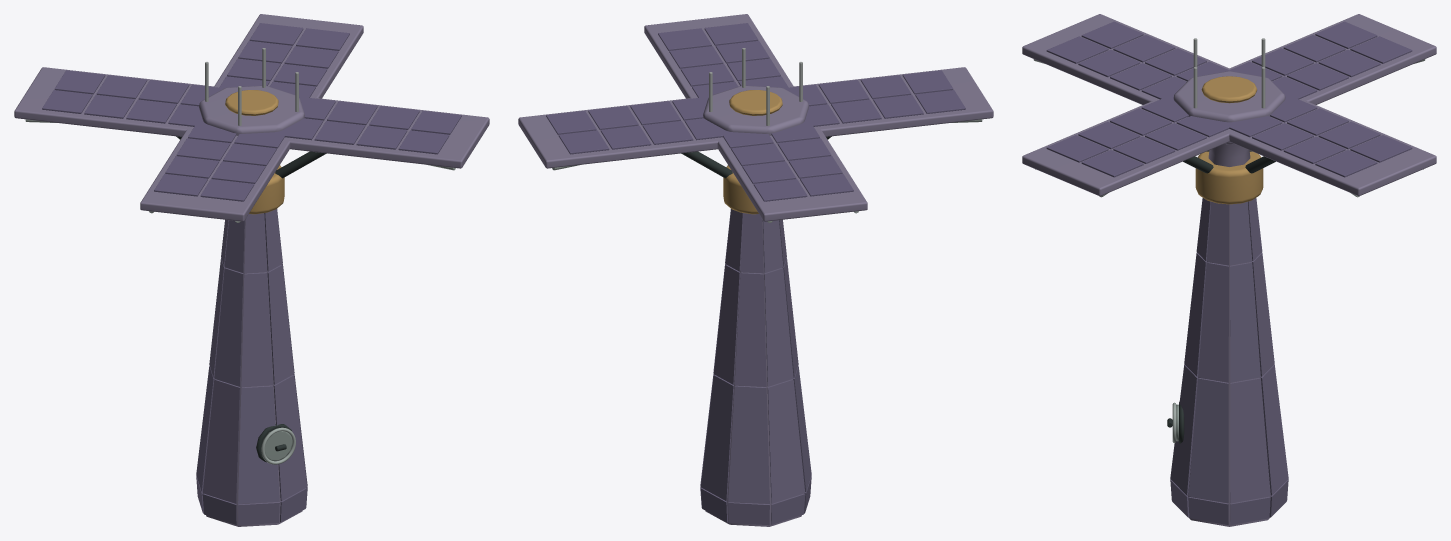
3 views of the same model, side by side, from view 1: azimuth 30°, elevation 25°; view 2: azimuth 150°, elevation 25°; view 3: azimuth 270°, elevation 25° (orthographic). The views are drawn at different scales.
Parts seen in each view (by area): view 1: Solar mast armoured panels, Solar collector petal.003, Solar collector petal.001, Solar collector petal.002, Solar tracking hub, Solar collector petal, Solar tapered mast, Solar hub gold cap, Solar collector cell.023, Solar collector cell.022, Solar collector cell.007, Solar collector cell.004 (+27 smaller); view 2: Solar mast armoured panels, Solar collector petal, Solar collector petal.002, Solar collector petal.001, Solar tracking hub, Solar collector petal.003, Solar tapered mast, Solar hub gold cap, Solar collector cell.014, Solar collector cell.015, Solar collector cell.030, Solar collector cell.007 (+26 smaller); view 3: Solar mast armoured panels, Solar collector petal, Solar collector petal.003, Solar collector petal.002, Solar collector petal.001, Solar tracking hub, Solar gold mast collar, Solar tapered mast, Solar hub gold cap, Solar collector cell.007, Solar collector cell.030, Solar collector cell.005 (+27 smaller).
Part boxes in pixels (left/top/right/bottom): Solar mast armoured panels: left=196, top=209, right=307, bottom=525; Solar collector petal.003: left=283, top=97, right=489, bottom=168; Solar collector petal.001: left=14, top=67, right=218, bottom=136; Solar collector petal.002: left=140, top=126, right=290, bottom=221; Solar tracking hub: left=199, top=85, right=304, bottom=135; Solar collector petal: left=214, top=14, right=363, bottom=98; Solar tapered mast: left=203, top=219, right=302, bottom=526; Solar hub gold cap: left=225, top=90, right=278, bottom=115; Solar collector cell.023: left=200, top=179, right=254, bottom=201; Solar collector cell.022: left=154, top=173, right=207, bottom=196; Solar collector cell.007: left=249, top=23, right=303, bottom=45; Solar collector cell.004: left=284, top=46, right=338, bottom=68; Solar mast armoured panels: left=700, top=209, right=811, bottom=525; Solar collector petal: left=518, top=97, right=724, bottom=168; Solar collector petal.002: left=789, top=67, right=993, bottom=136; Solar collector petal.001: left=717, top=126, right=867, bottom=221; Solar tracking hub: left=703, top=85, right=808, bottom=135; Solar collector petal.003: left=644, top=14, right=793, bottom=98; Solar tapered mast: left=705, top=219, right=804, bottom=526; Solar hub gold cap: left=729, top=90, right=782, bottom=115; Solar collector cell.014: left=753, top=179, right=807, bottom=201; Solar collector cell.015: left=800, top=173, right=853, bottom=196; Solar collector cell.030: left=704, top=23, right=758, bottom=45; Solar collector cell.007: left=558, top=130, right=609, bottom=154; Solar mast armoured panels: left=1170, top=198, right=1288, bottom=524; Solar collector petal: left=1225, top=99, right=1436, bottom=196; Solar collector petal.003: left=1022, top=101, right=1230, bottom=196; Solar collector petal.002: left=1022, top=14, right=1229, bottom=104; Solar collector petal.001: left=1228, top=14, right=1436, bottom=104; Solar tracking hub: left=1173, top=71, right=1285, bottom=144; Solar gold mast collar: left=1195, top=151, right=1263, bottom=204; Solar tapered mast: left=1187, top=144, right=1271, bottom=526; Solar hub gold cap: left=1201, top=76, right=1257, bottom=103; Solar collector cell.007: left=1350, top=135, right=1412, bottom=162; Solar collector cell.030: left=1046, top=135, right=1108, bottom=162; Solar collector cell.005: left=1318, top=121, right=1380, bottom=149.
Bounding box in the file's own units: 2.68 × 3.22 × 2.68.
